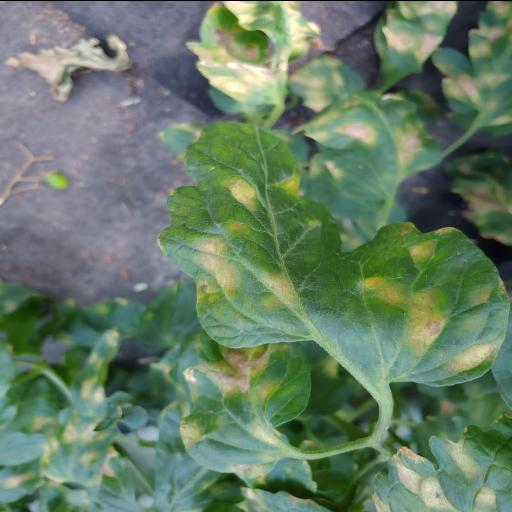Leaf Mold: (154, 118, 512, 386), (182, 332, 312, 478)
